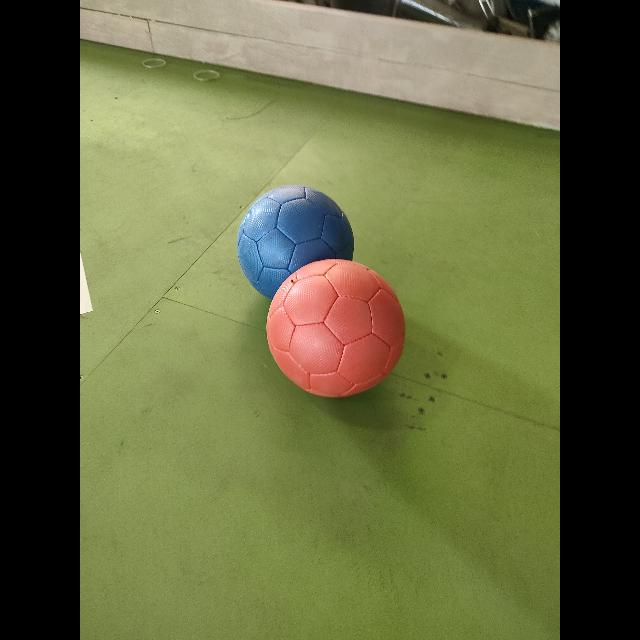B: (236, 185, 354, 298)
R: (266, 260, 405, 398)
